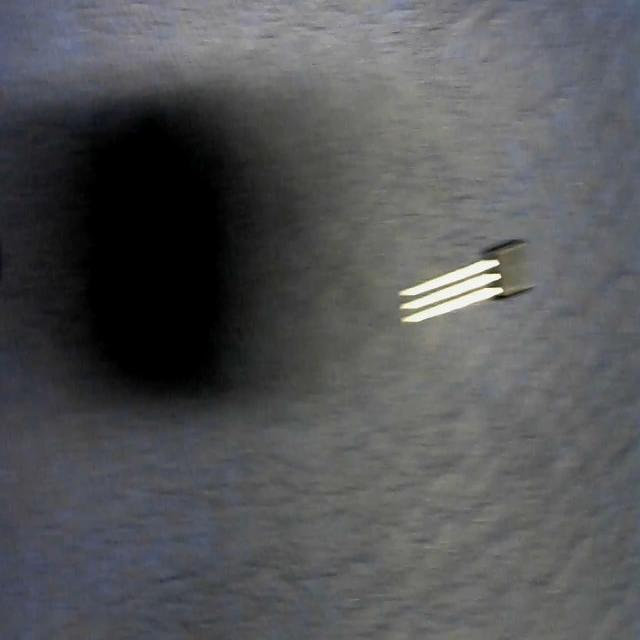BJT: (397, 233, 532, 329)
